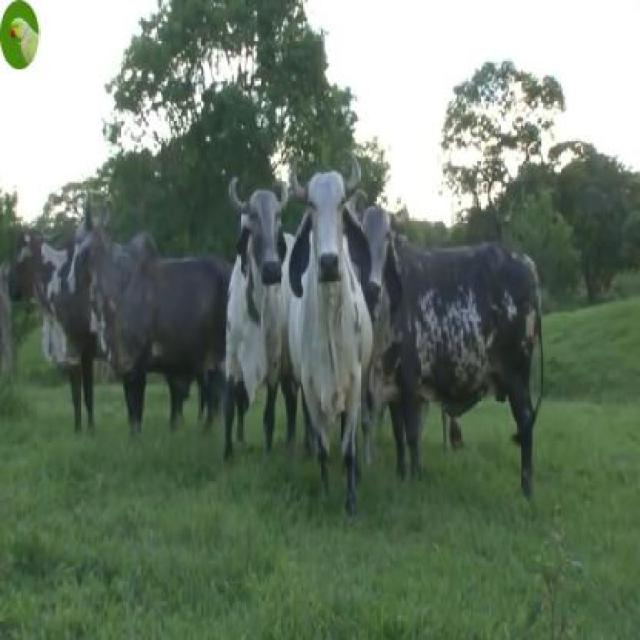Cow: (360, 202, 542, 496), (298, 141, 368, 497), (223, 170, 300, 442)
